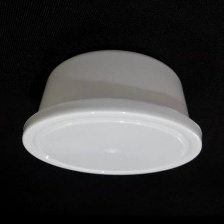plastic_box: (16, 41, 208, 183)
